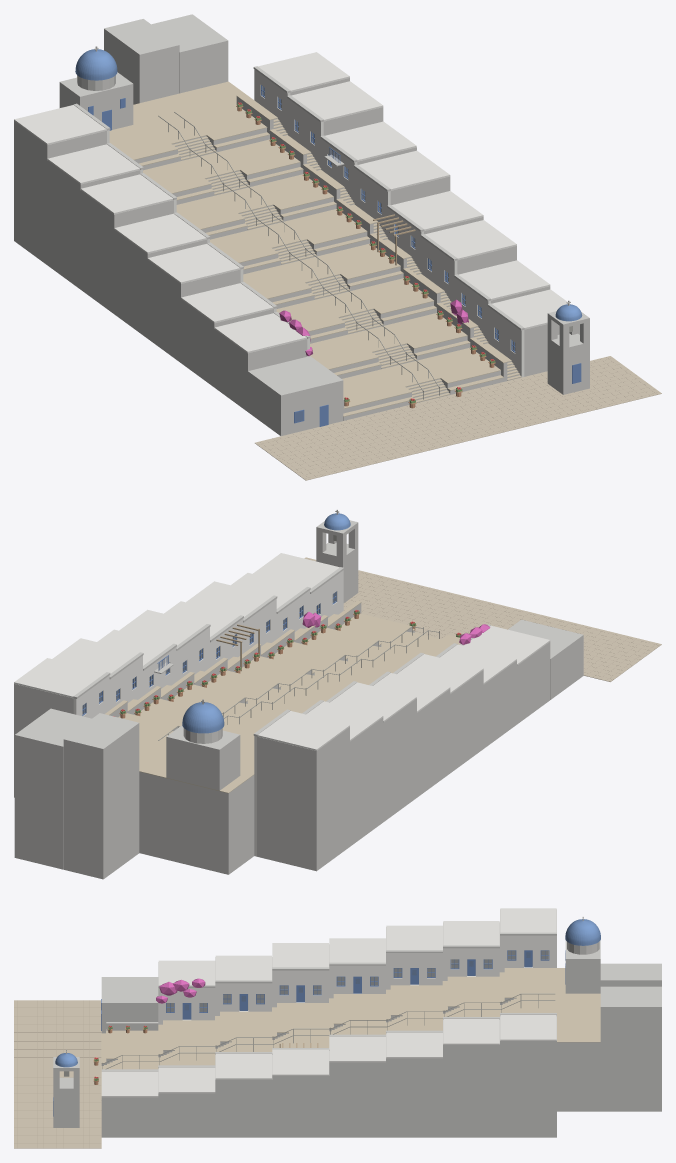
The model's file is clay-stepped-terraced-plaza-clay-v001.glb.
3 views of the same model, one above another, from view 1: azimuth 30°, elevation 25°; view 2: azimuth 150°, elevation 25°; view 3: azimuth 270°, elevation 25° (orthographic). The views are drawn at different scales.
Visible parts, largest first — view 1: CLAY_WHITE, CLAY_STONE, CLAY_ROOF, CLAY_PAVING, CLAY_WALL, CLAY_JOINT, CLAY_BLUE, CLAY_HARDWARE, CLAY_DOME, CLAY_POT; view 2: CLAY_WHITE, CLAY_ROOF, CLAY_STONE, CLAY_PAVING, CLAY_WALL, CLAY_JOINT, CLAY_DOME, CLAY_HARDWARE, CLAY_BLUE, CLAY_POT; view 3: CLAY_WHITE, CLAY_ROOF, CLAY_STONE, CLAY_PAVING, CLAY_WALL, CLAY_BLUE, CLAY_JOINT, CLAY_HARDWARE, CLAY_GLASS, CLAY_DOME, CLAY_BOUGAIN.
Part boxes in pixels (box(x1,y1,x2,y2)): CLAY_WHITE: box(14, 14, 589, 435); CLAY_STONE: box(109, 81, 521, 416); CLAY_ROOF: box(14, 52, 570, 353); CLAY_PAVING: box(255, 356, 661, 480); CLAY_WALL: box(107, 69, 524, 377); CLAY_JOINT: box(258, 357, 657, 478); CLAY_BLUE: box(88, 85, 581, 426); CLAY_HARDWARE: box(158, 112, 572, 399); CLAY_DOME: box(75, 49, 582, 321); CLAY_POT: box(236, 105, 495, 408); CLAY_WHITE: box(14, 509, 583, 879); CLAY_ROOF: box(14, 553, 550, 750); CLAY_STONE: box(105, 601, 460, 793); CLAY_PAVING: box(304, 557, 661, 681); CLAY_WALL: box(73, 570, 343, 856); CLAY_JOINT: box(345, 572, 657, 680); CLAY_DOME: box(182, 513, 350, 733); CLAY_HARDWARE: box(158, 535, 439, 740); CLAY_BLUE: box(82, 591, 336, 715); CLAY_POT: box(119, 613, 416, 718); CLAY_WHITE: box(53, 909, 661, 1137); CLAY_ROOF: box(101, 908, 556, 1097); CLAY_STONE: box(101, 968, 600, 1110); CLAY_PAVING: box(14, 1000, 101, 1148); CLAY_WALL: box(158, 935, 556, 1024); CLAY_BLUE: box(53, 950, 565, 1116); CLAY_JOINT: box(14, 1000, 100, 1147); CLAY_HARDWARE: box(64, 993, 555, 1076); CLAY_GLASS: box(166, 950, 548, 1011); CLAY_DOME: box(55, 919, 600, 1067); CLAY_BOUGAIN: box(156, 978, 205, 1003).
Bounding box in the file's own units: 40 × 17.1 × 74.
